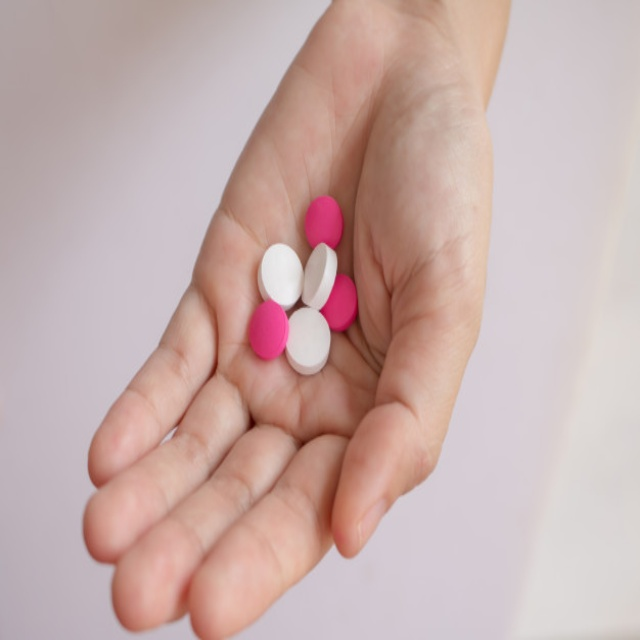pill: (251, 160, 299, 206), (278, 203, 324, 247), (240, 199, 284, 238), (295, 160, 328, 204), (298, 130, 337, 166), (317, 180, 351, 221)
